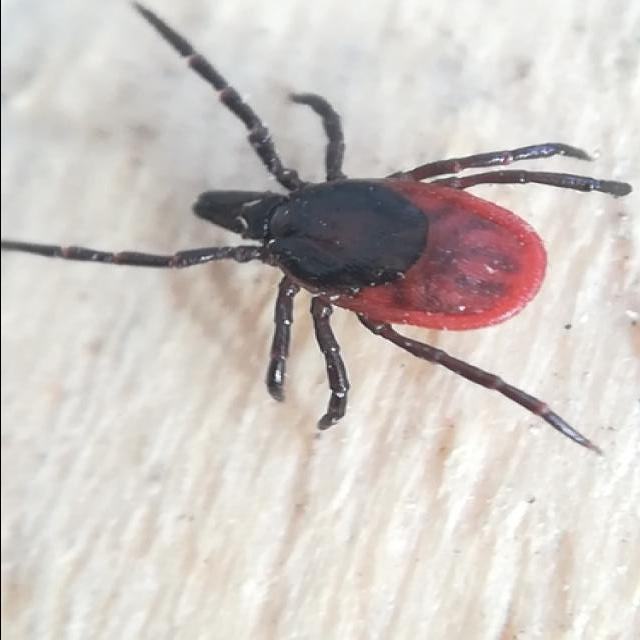Ixodes Ricinus-F: (0, 0, 633, 454)
